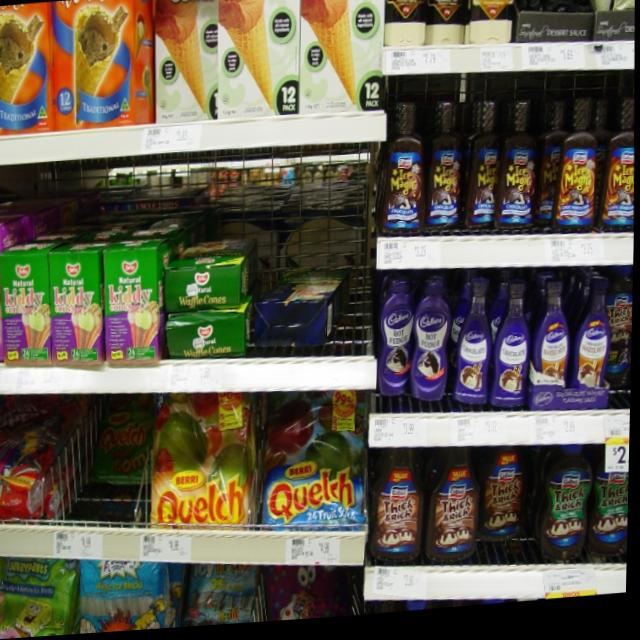q106: (53, 0, 156, 131), (0, 2, 45, 138)
